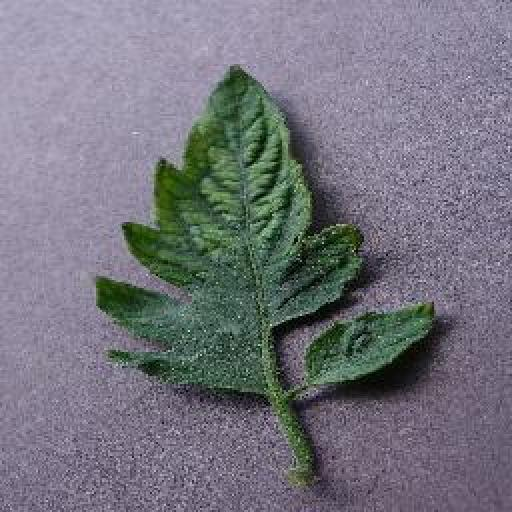disease_tomato: (88, 58, 440, 398)
